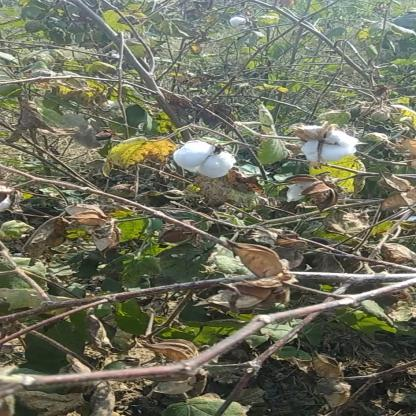cotton_ready: (258, 113, 364, 180), (144, 119, 250, 184)
